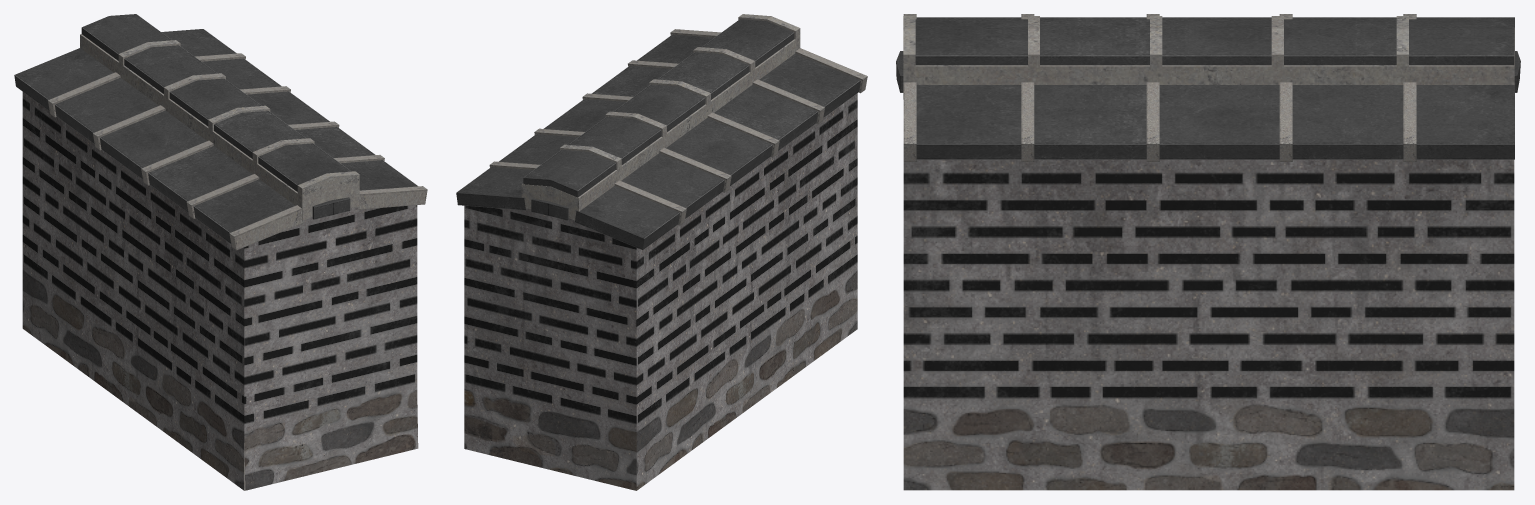
File: SM_Battlement01a.fbx
3 renders of one model, left to right at view 1: azimuth 30°, elevation 25°; view 2: azimuth 150°, elevation 25°; view 3: azimuth 270°, elevation 25°, orthographic. The views are drawn at different scales.
Visible parts, largest first — view 1: SM_Battlement01a; view 2: SM_Battlement01a; view 3: SM_Battlement01a.
Boxes of the visible parts, left/top/right/bottom form: SM_Battlement01a: left=14, top=14, right=427, bottom=490; SM_Battlement01a: left=456, top=14, right=867, bottom=490; SM_Battlement01a: left=896, top=14, right=1520, bottom=490.
Bounding box in the file's own units: 101 × 205 × 146.
1 material, 1 textured.
